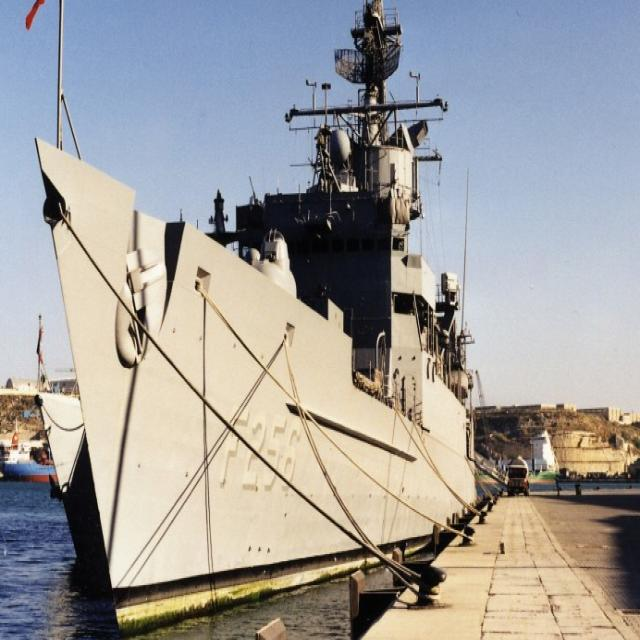Fragata: (32, 1, 495, 640)
